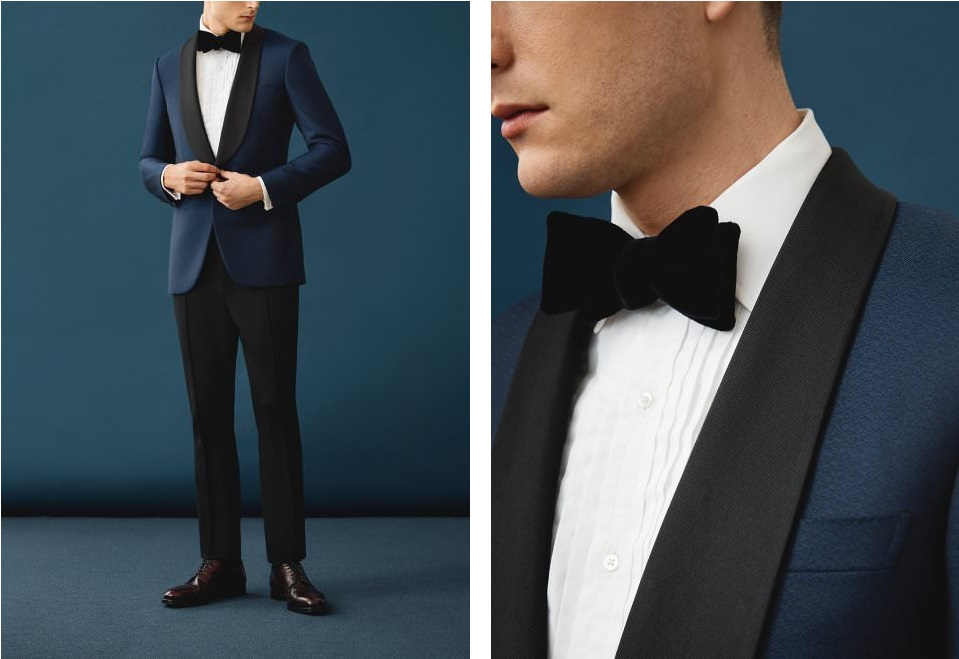bow: (528, 199, 759, 348), (191, 25, 246, 59)
